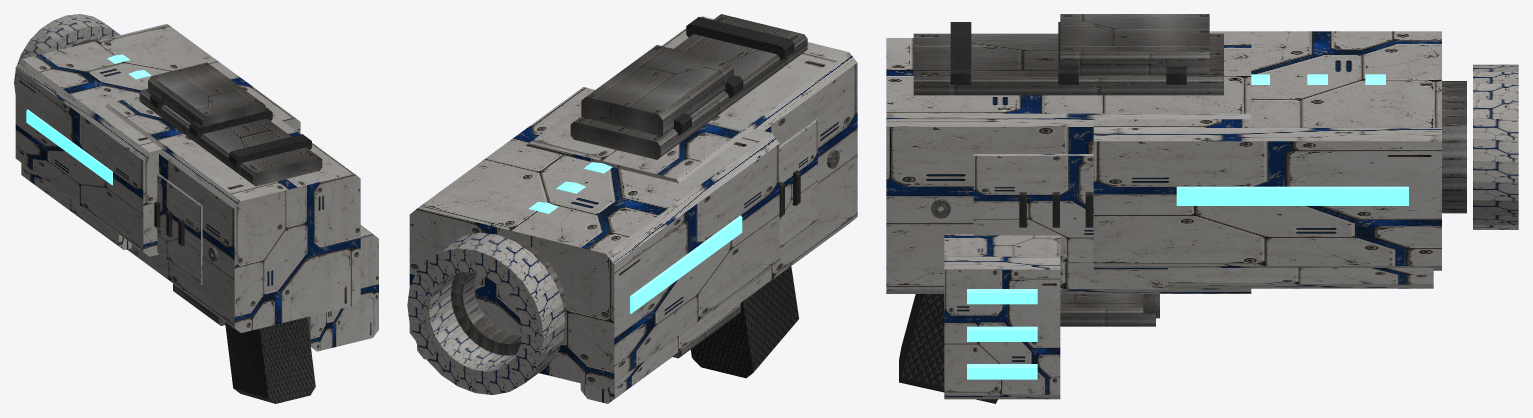
File: electro_plasma.gltf
3 renders of one model, left to right at view 1: azimuth 30°, elevation 25°; view 2: azimuth 150°, elevation 25°; view 3: azimuth 270°, elevation 25°, orthographic. The views are drawn at different scales.
Parts seen in each view (by area): view 1: Receiver, InductorHousing, Grip, TopRail, TopSight, CellMagazine, InsetPanel, MuzzleShroud, RailNotch (×2), ArmoredRail, EnergyConduit, TriggerGuard; view 2: InductorHousing, Receiver, MuzzleShroud, TopSight, TopRail, Grip, InsetPanel, CeramicBarrel, ArmoredRail, EnergyConduit, RailNotch, TriggerGuard; view 3: InductorHousing, Receiver, CellMagazine, TopRail, InsetPanel, TopSight, MuzzleShroud, ArmoredRail, EnergyConduit, Grip, ChargeIndicator (×3), CeramicBarrel (+2 smaller).
Part boxes in pixels (x1,y1,x2,y2): Receiver: (105, 96, 360, 332); InductorHousing: (15, 24, 300, 256); Grip: (225, 317, 315, 403); TopRail: (139, 88, 322, 186); TopSight: (148, 62, 265, 126); CellMagazine: (307, 225, 378, 351); InsetPanel: (157, 173, 202, 284); MuzzleShroud: (14, 14, 120, 94); RailNotch (×2): (189, 107, 311, 167); ArmoredRail: (21, 163, 131, 249); EnergyConduit: (26, 109, 112, 185); TriggerGuard: (173, 283, 225, 325); InductorHousing: (409, 87, 779, 389); Receiver: (526, 16, 857, 302); MuzzleShroud: (407, 232, 565, 394); TopSight: (581, 45, 733, 136); TopRail: (570, 14, 807, 159); Grip: (690, 266, 799, 378); InsetPanel: (779, 119, 817, 248); CeramicBarrel: (451, 237, 566, 355); ArmoredRail: (580, 291, 740, 403); EnergyConduit: (630, 215, 742, 313); RailNotch: (686, 17, 794, 60); TriggerGuard: (672, 303, 740, 358); InductorHousing: (1093, 31, 1441, 270); Receiver: (886, 38, 1251, 293); CellMagazine: (944, 234, 1060, 399); TopRail: (913, 33, 1223, 95); InsetPanel: (973, 154, 1093, 262); TopSight: (1060, 14, 1209, 75); MuzzleShroud: (1473, 64, 1518, 229); ArmoredRail: (1168, 268, 1433, 288); EnergyConduit: (1176, 186, 1408, 205); Grip: (899, 294, 997, 403); ChargeIndicator (×3): (967, 289, 1037, 379); CeramicBarrel: (1442, 81, 1466, 213).
Bounding box in the file's own units: 0.2687 × 0.359 × 0.5719.
Materials: 5 (4 with a texture image).
